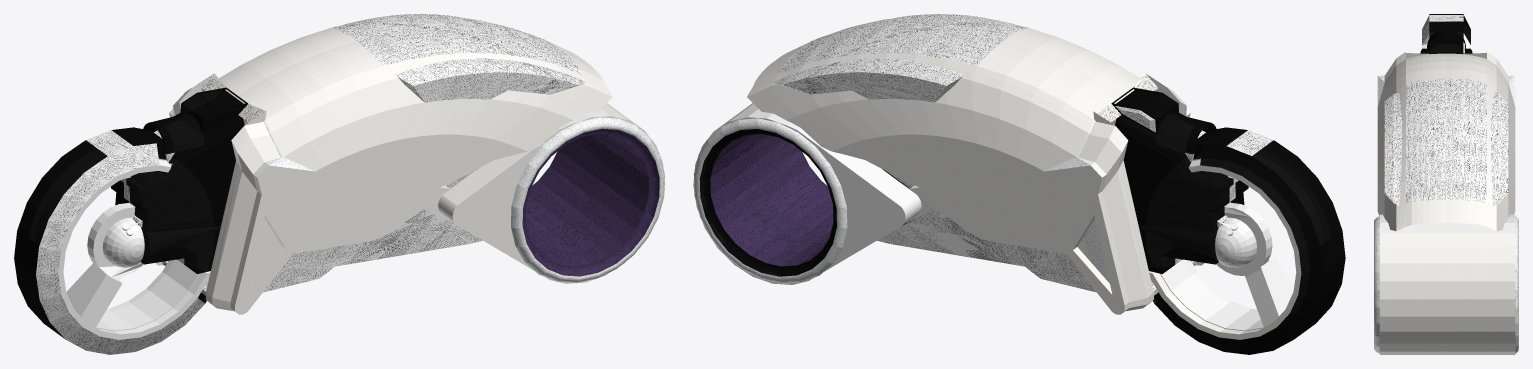
Rendered from lightcycle.dae.
3 renders of one model, left to right at view 1: azimuth 30°, elevation 25°; view 2: azimuth 150°, elevation 25°; view 3: azimuth 270°, elevation 25°, orthographic. The views are drawn at different scales.
Parts seen in each view (by area): view 1: Komponente_1 (×15); view 2: Komponente_1 (×16), group_0; view 3: Komponente_1 (×16).
Boxes of the visible parts, left/top/right/bottom form: Komponente_1 (×15): left=14, top=15, right=664, bottom=354; Komponente_1 (×16): left=693, top=15, right=1345, bottom=354; group_0: left=699, top=129, right=836, bottom=276; Komponente_1 (×16): left=1374, top=14, right=1518, bottom=354.
Bounding box in the file's own units: 131 × 35.46 × 53.57.
6 materials, 1 textured.
